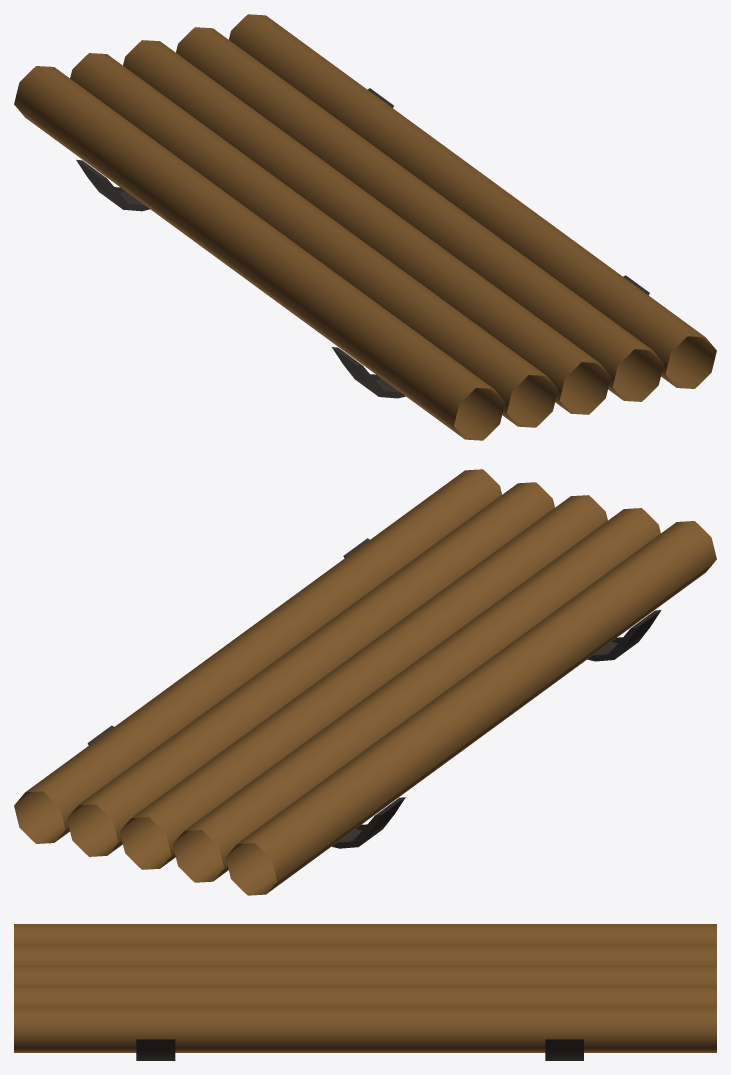
The model's file is Module_Ss_roof_Tubes1.FBX.
3 renders of one model, top to bottom at view 1: azimuth 30°, elevation 25°; view 2: azimuth 150°, elevation 25°; view 3: azimuth 270°, elevation 25°, orthographic. The views are drawn at different scales.
Parts seen in each view (by area): view 1: Module_Ss_roof_Tubes1; view 2: Module_Ss_roof_Tubes1; view 3: Module_Ss_roof_Tubes1.
Part boxes in pixels (<box>): Module_Ss_roof_Tubes1: <box>14,14,716,440</box>; Module_Ss_roof_Tubes1: <box>14,469,716,895</box>; Module_Ss_roof_Tubes1: <box>14,924,716,1060</box>.
Size of the model in its own units: 25.23 by 5.44 by 65.37.
